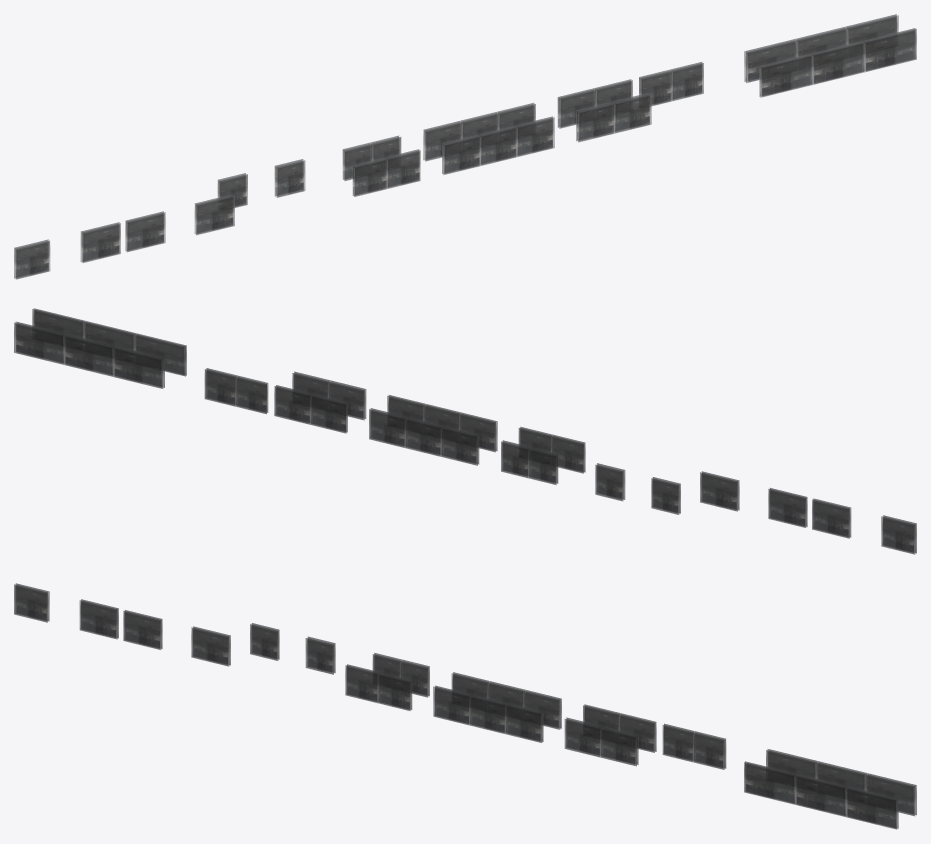
Rendered from corridorglass.dae.
3 views of the same model, one above another, from view 1: azimuth 30°, elevation 25°; view 2: azimuth 150°, elevation 25°; view 3: azimuth 330°, elevation 25° (orthographic). The views are drawn at different scales.
Visible parts, largest first — view 1: CorridorGlass; view 2: CorridorGlass; view 3: CorridorGlass.
Boxes of the visible parts, x1=… form: CorridorGlass: x1=14, y1=14, x2=916, y2=279; CorridorGlass: x1=14, y1=308, x2=916, y2=554; CorridorGlass: x1=14, y1=583, x2=916, y2=829.
Size of the model in its own units: 49.71 by 1.96 by 1.63.
1 material, 1 textured.
